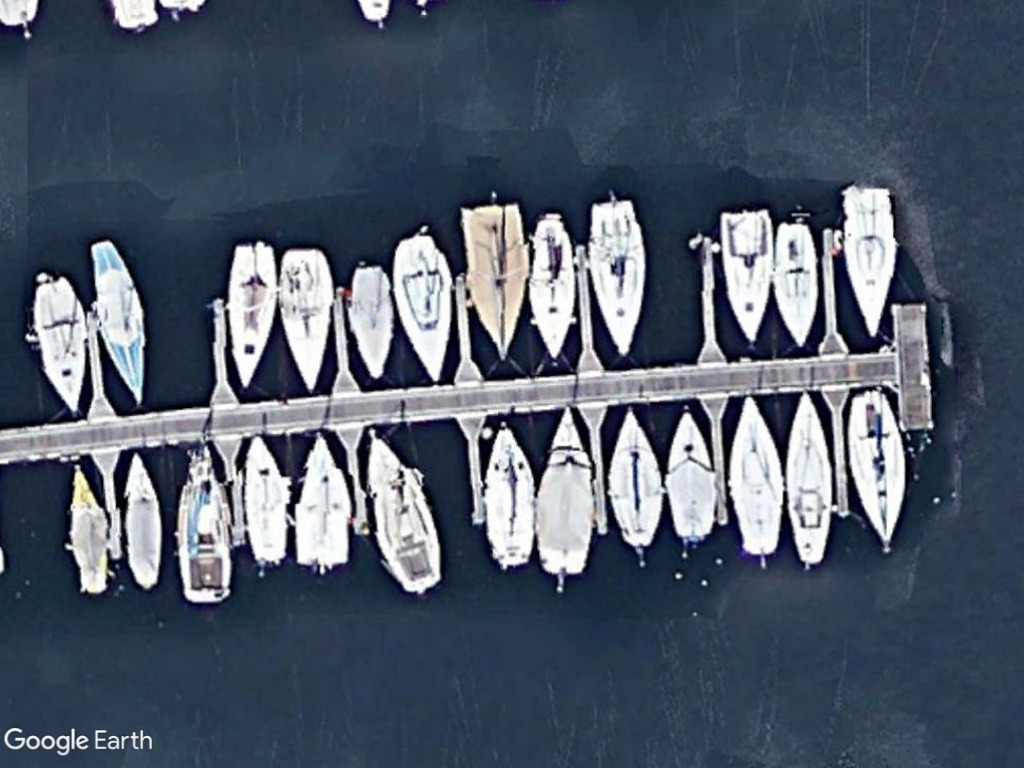boat: (358, 426, 447, 600), (527, 400, 597, 582), (80, 235, 154, 407), (454, 197, 530, 363), (830, 177, 901, 341), (720, 394, 788, 564), (165, 441, 234, 606), (580, 191, 646, 357), (846, 387, 911, 554), (775, 389, 835, 569), (389, 228, 457, 381), (268, 243, 336, 393), (715, 200, 778, 351), (28, 268, 90, 419), (477, 416, 536, 574), (520, 208, 580, 361), (604, 403, 663, 556), (221, 233, 277, 394), (294, 430, 353, 577), (663, 401, 719, 549), (117, 447, 171, 593), (237, 433, 291, 573), (766, 215, 820, 348), (341, 261, 399, 384), (62, 460, 111, 597)
